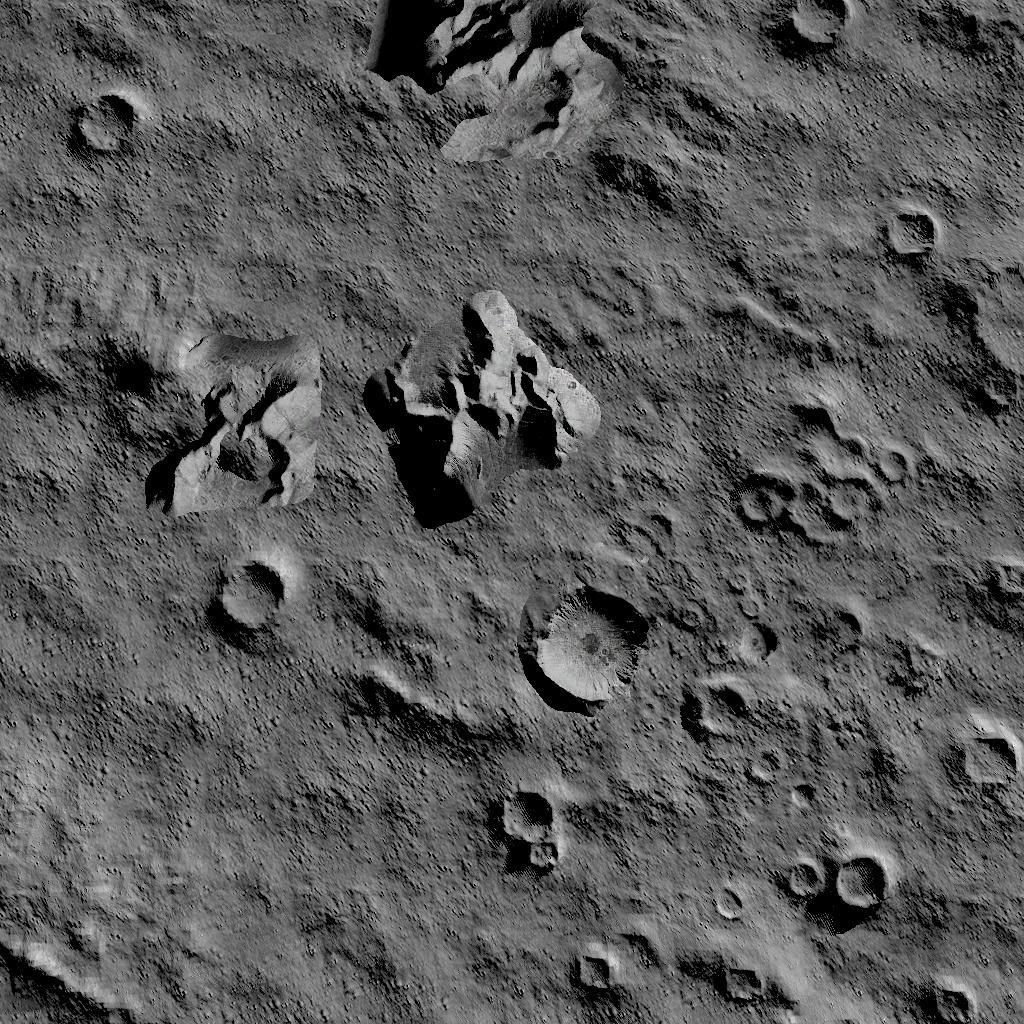Boulders: (362, 288, 600, 524), (363, 0, 639, 163), (104, 326, 317, 514)
Crater: (734, 402, 910, 550), (524, 583, 654, 708), (948, 264, 1024, 415), (210, 555, 288, 636), (779, 856, 885, 912), (493, 788, 565, 870), (66, 91, 142, 158), (680, 685, 754, 745), (952, 732, 1020, 793), (781, 1, 850, 57), (876, 208, 942, 264), (711, 962, 770, 1009), (922, 984, 980, 1024), (569, 951, 616, 999), (980, 554, 1024, 604), (733, 624, 778, 672), (708, 889, 749, 929), (738, 752, 781, 782), (782, 788, 814, 816)
Plan surface: (3, 752, 475, 968), (155, 0, 349, 312), (677, 82, 1024, 202), (3, 536, 191, 744)
